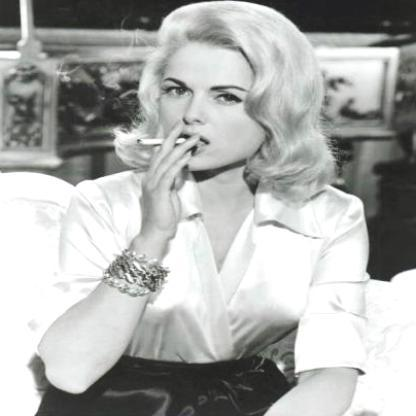cigarette: (134, 136, 190, 148)
person: (52, 0, 352, 415)
